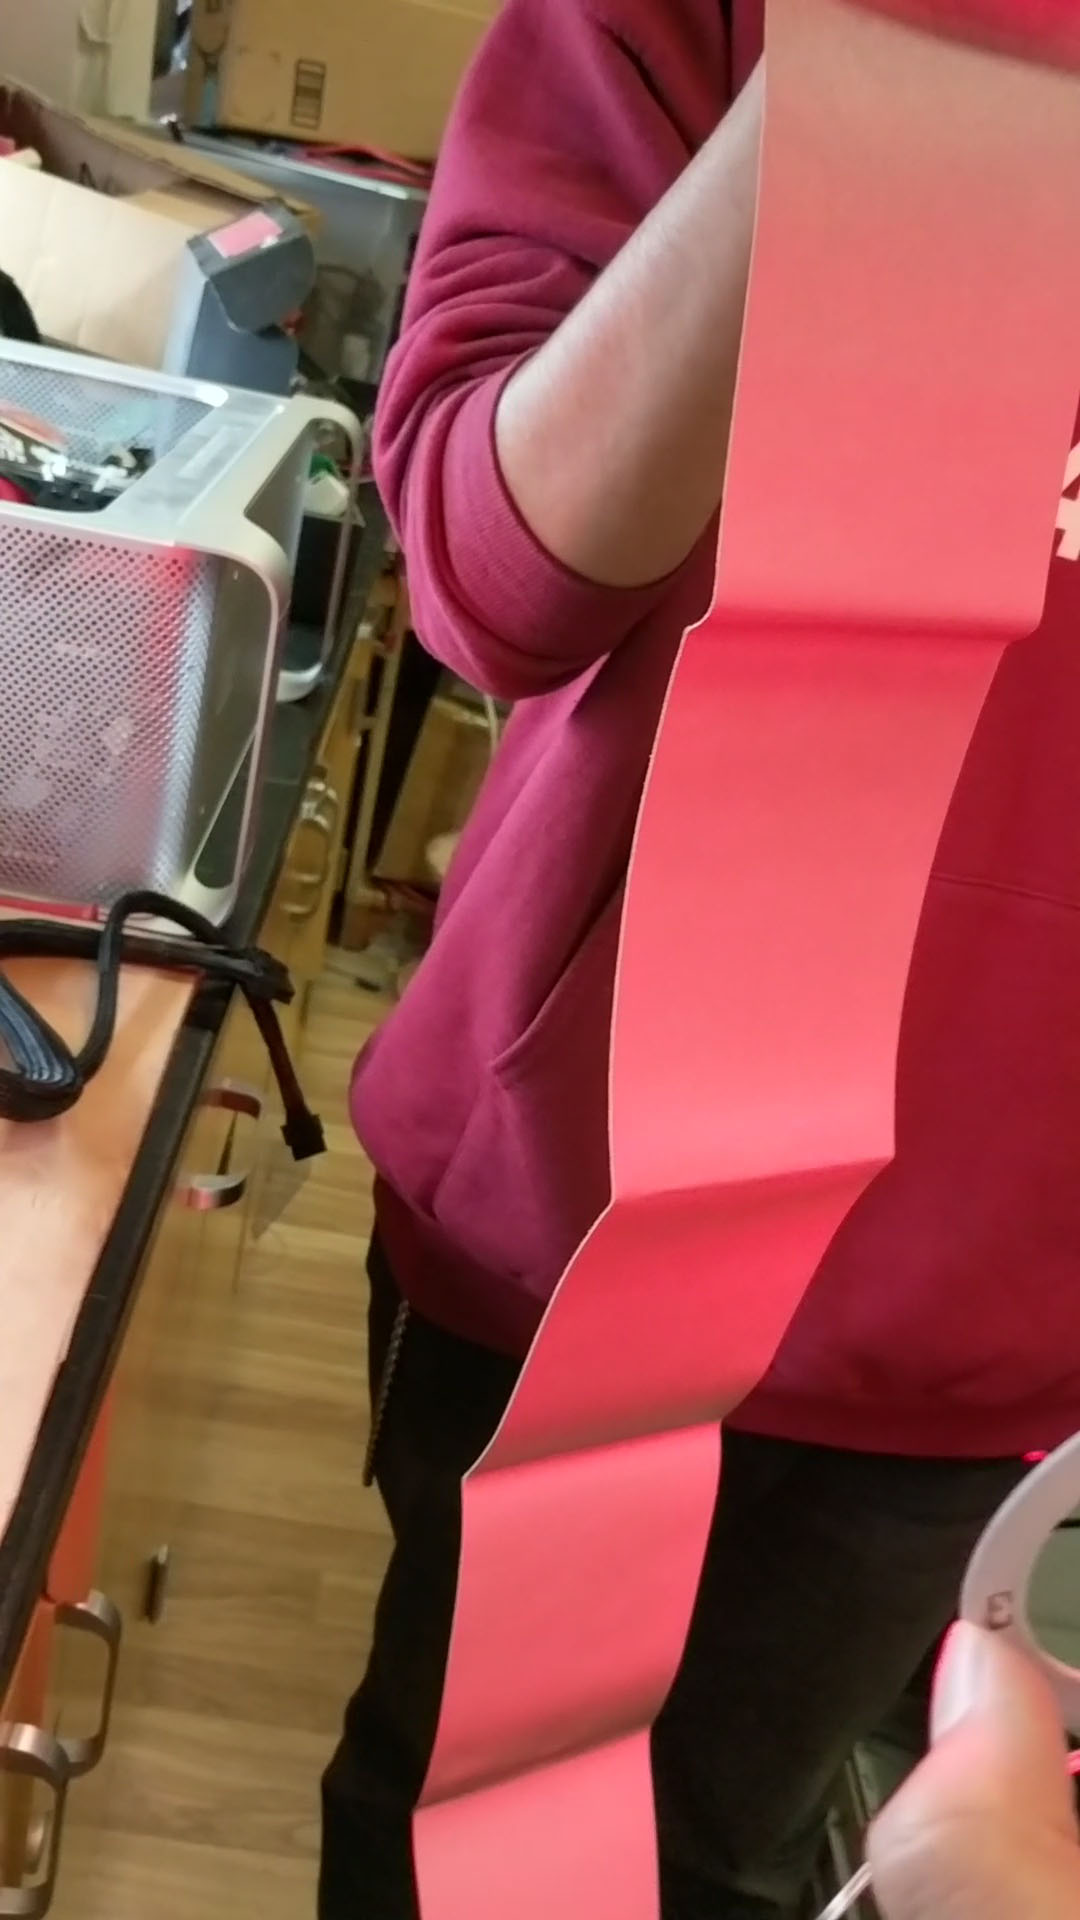gear: (415, 0, 1080, 1920)
